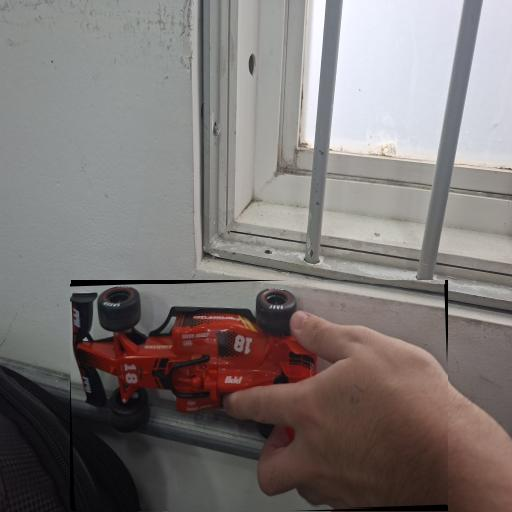carro: (71, 285, 447, 508)
